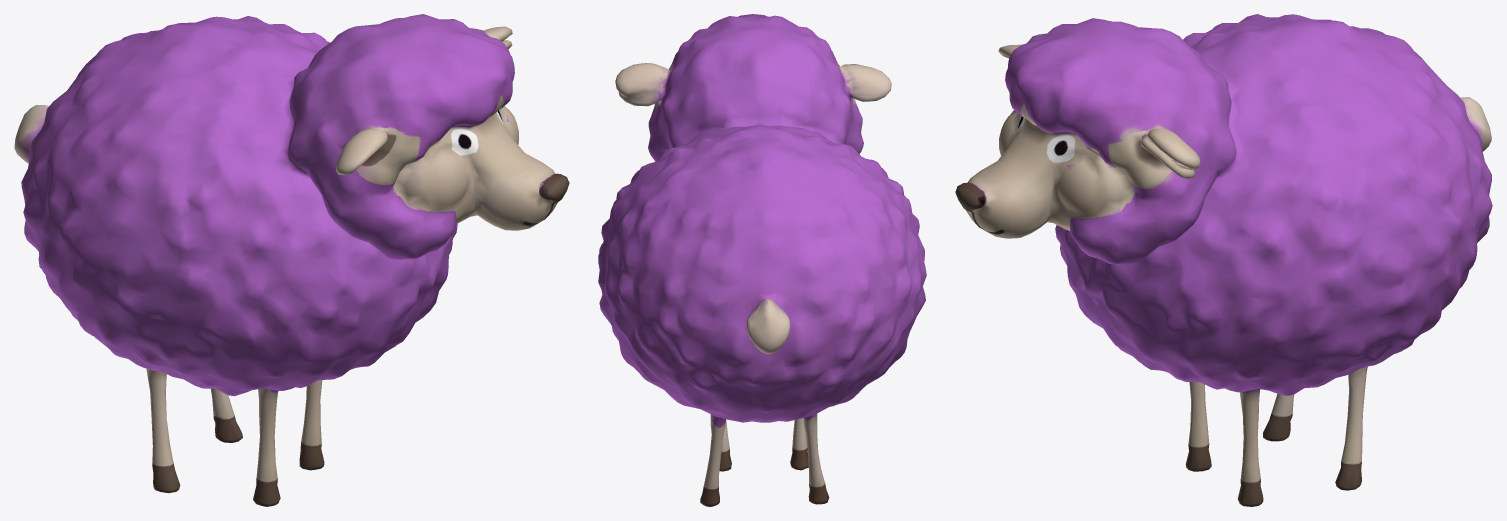
Rendered from purplesheep.glb.
The picture shows the model from 3 angles, left to right: view 1: azimuth 30°, elevation 25°; view 2: azimuth 150°, elevation 25°; view 3: azimuth 270°, elevation 25°; orthographic projection. The views are drawn at different scales.
Parts seen in each view (by area): view 1: Mesh_0; view 2: Mesh_0; view 3: Mesh_0.
Part boxes in pixels (x1,y1,x2,y2): Mesh_0: [14, 14, 569, 506]; Mesh_0: [598, 14, 926, 506]; Mesh_0: [955, 14, 1492, 506].
Size of the model in its own units: 1.52 by 1.72 by 1.73.
Materials: 1 (1 with a texture image).
